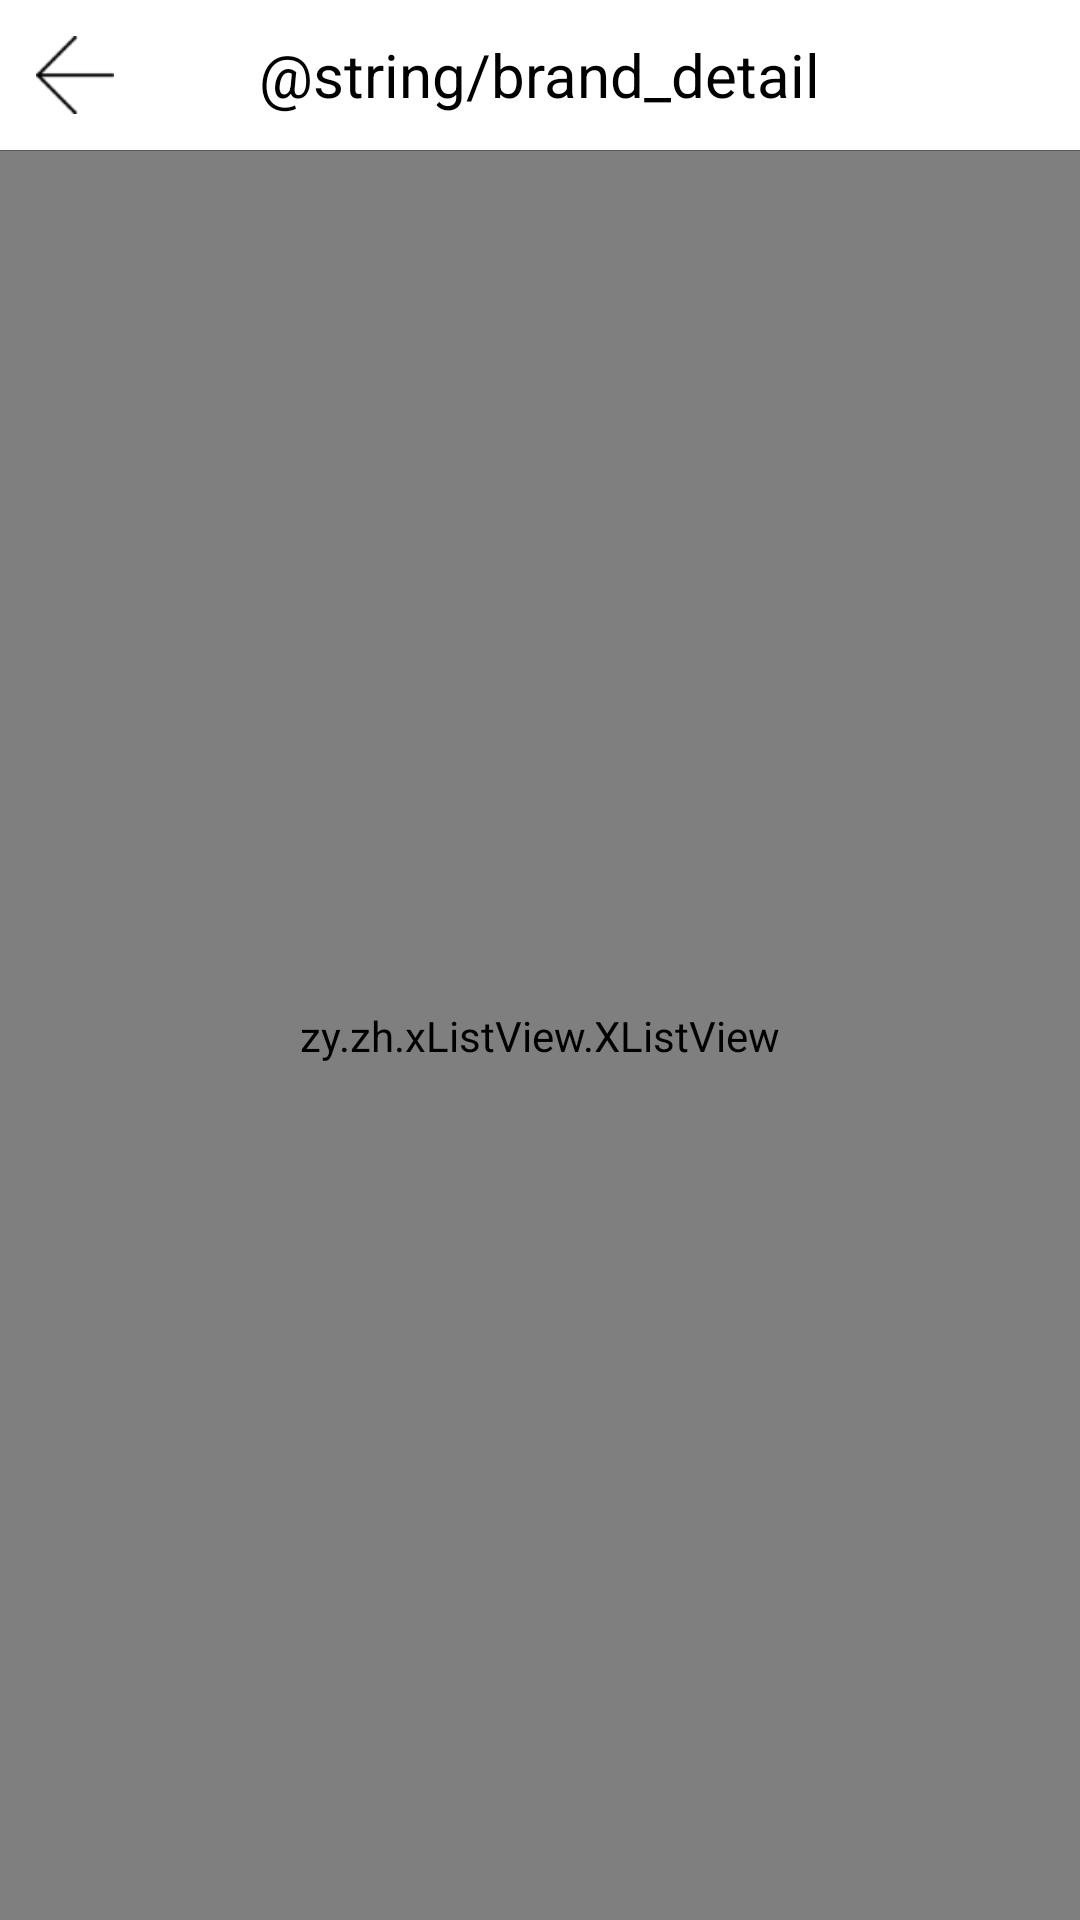

Where icons sit on this 1080w x 1920h app screen, as (x1, y1, x2, y2):
left: (36, 36, 114, 114)
